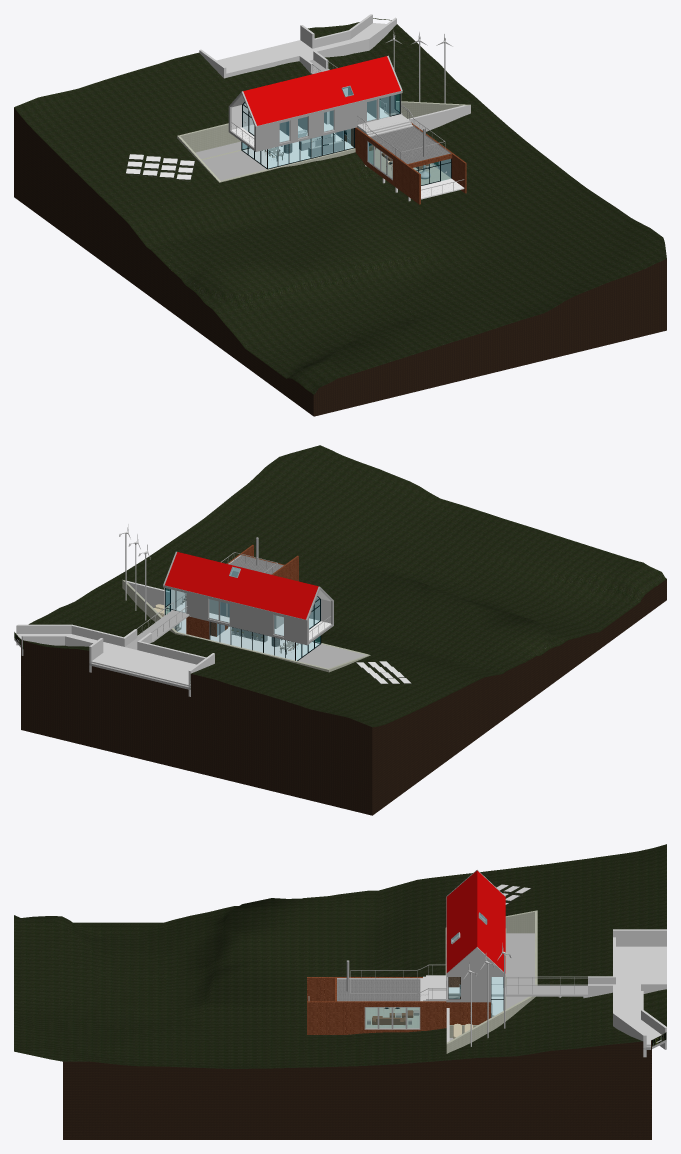
3 views of the same model, one above another, from view 1: azimuth 30°, elevation 25°; view 2: azimuth 150°, elevation 25°; view 3: azimuth 270°, elevation 25° (orthographic). The views are drawn at different scales.
Parts seen in each view (by area): view 1: 411452, 243274, 428745, 766598, 849032, 724430, 495352, 493697, 176804, 427092, 493879, 493790 (+3 smaller); view 2: 411452, 490318, 243274, 428588, 766598, 176804, 495352, 764691, 745997, 493879, 746766, 746235; view 3: 411452, 243274, 427092, 766598, 724430, 198694, 647908, 493790, 764691, 849032, 599841, 490318 (+4 smaller).
Boxes of the visible parts, <box> form: 411452: <box>14,18,666,416</box>; 243274: <box>232,56,400,125</box>; 428745: <box>257,91,401,151</box>; 766598: <box>216,23,385,72</box>; 849032: <box>355,127,420,204</box>; 724430: <box>370,126,449,163</box>; 495352: <box>202,150,266,180</box>; 493697: <box>178,123,240,152</box>; 176804: <box>243,133,353,168</box>; 427092: <box>380,102,466,193</box>; 493879: <box>408,105,467,131</box>; 493790: <box>379,101,470,118</box>; 411452: <box>14,445,666,815</box>; 490318: <box>14,632,190,771</box>; 243274: <box>164,552,330,619</box>; 428588: <box>164,585,305,644</box>; 766598: <box>16,634,196,685</box>; 176804: <box>177,618,319,660</box>; 495352: <box>298,644,366,668</box>; 764691: <box>125,610,189,649</box>; 745997: <box>137,641,206,664</box>; 493879: <box>126,581,169,607</box>; 746766: <box>16,624,71,645</box>; 746235: <box>68,624,125,646</box>; 411452: <box>14,844,666,1139</box>; 243274: <box>446,870,505,973</box>; 427092: <box>307,1001,490,1034</box>; 766598: <box>616,946,666,1045</box>; 724430: <box>337,979,420,1001</box>; 198694: <box>446,947,505,1002</box>; 647908: <box>506,933,534,1008</box>; 493790: <box>446,996,534,1053</box>; 764691: <box>505,985,587,996</box>; 849032: <box>307,977,422,1001</box>; 599841: <box>613,929,666,946</box>; 490318: <box>643,1033,666,1139</box>.
Size of the model in its own units: 50.43 by 19.16 by 70.36.
Materials: 92 (15 with a texture image).
